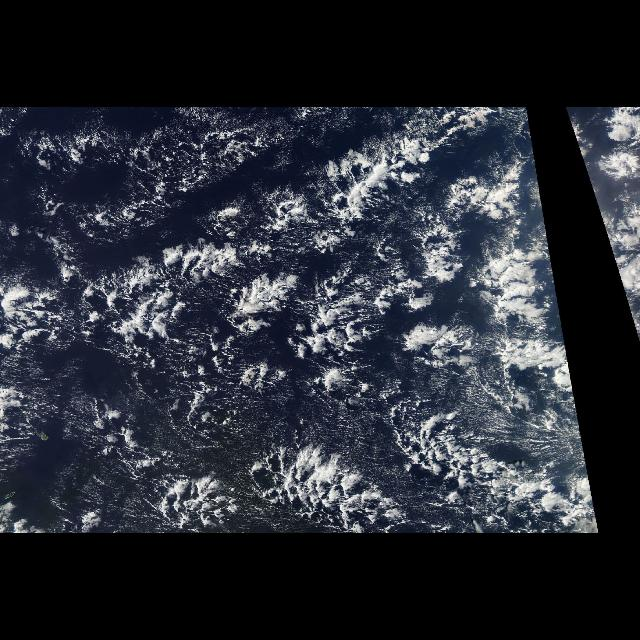Fish: (11, 125, 599, 529), (574, 140, 608, 244)
